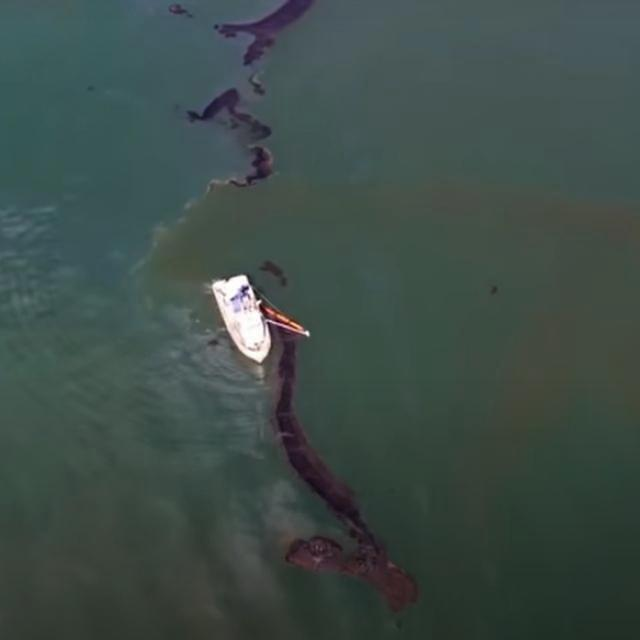oil: (249, 388, 449, 616)
